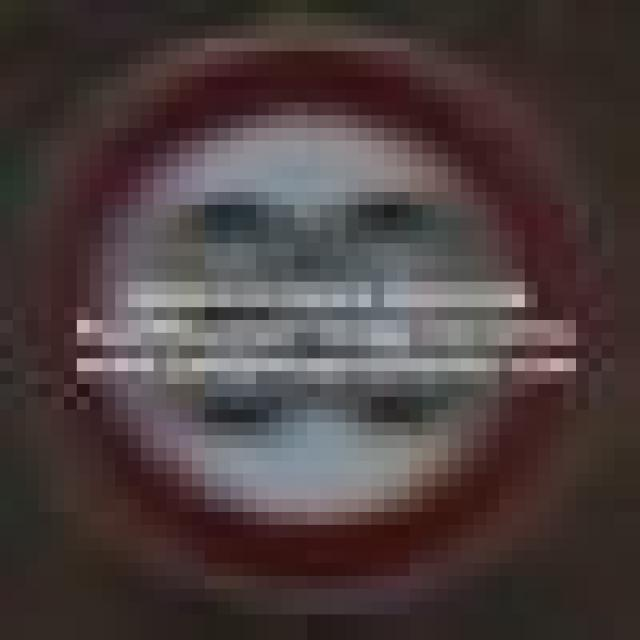SPEED_LIMIT_80: (51, 38, 576, 550)
